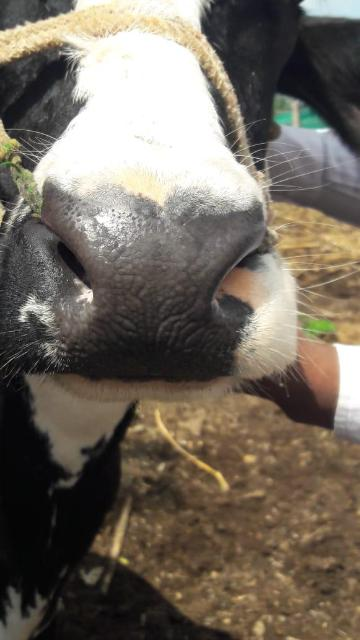Muzzle: (50, 212, 232, 368)
